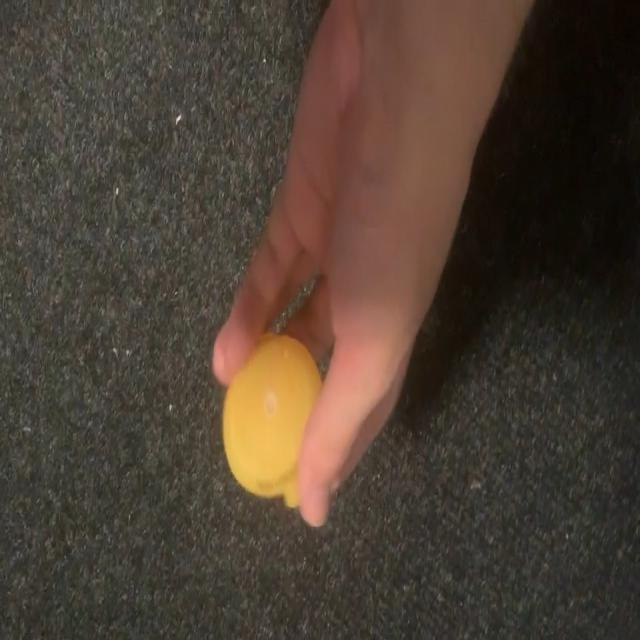rubber-duck: (222, 333, 319, 505)
